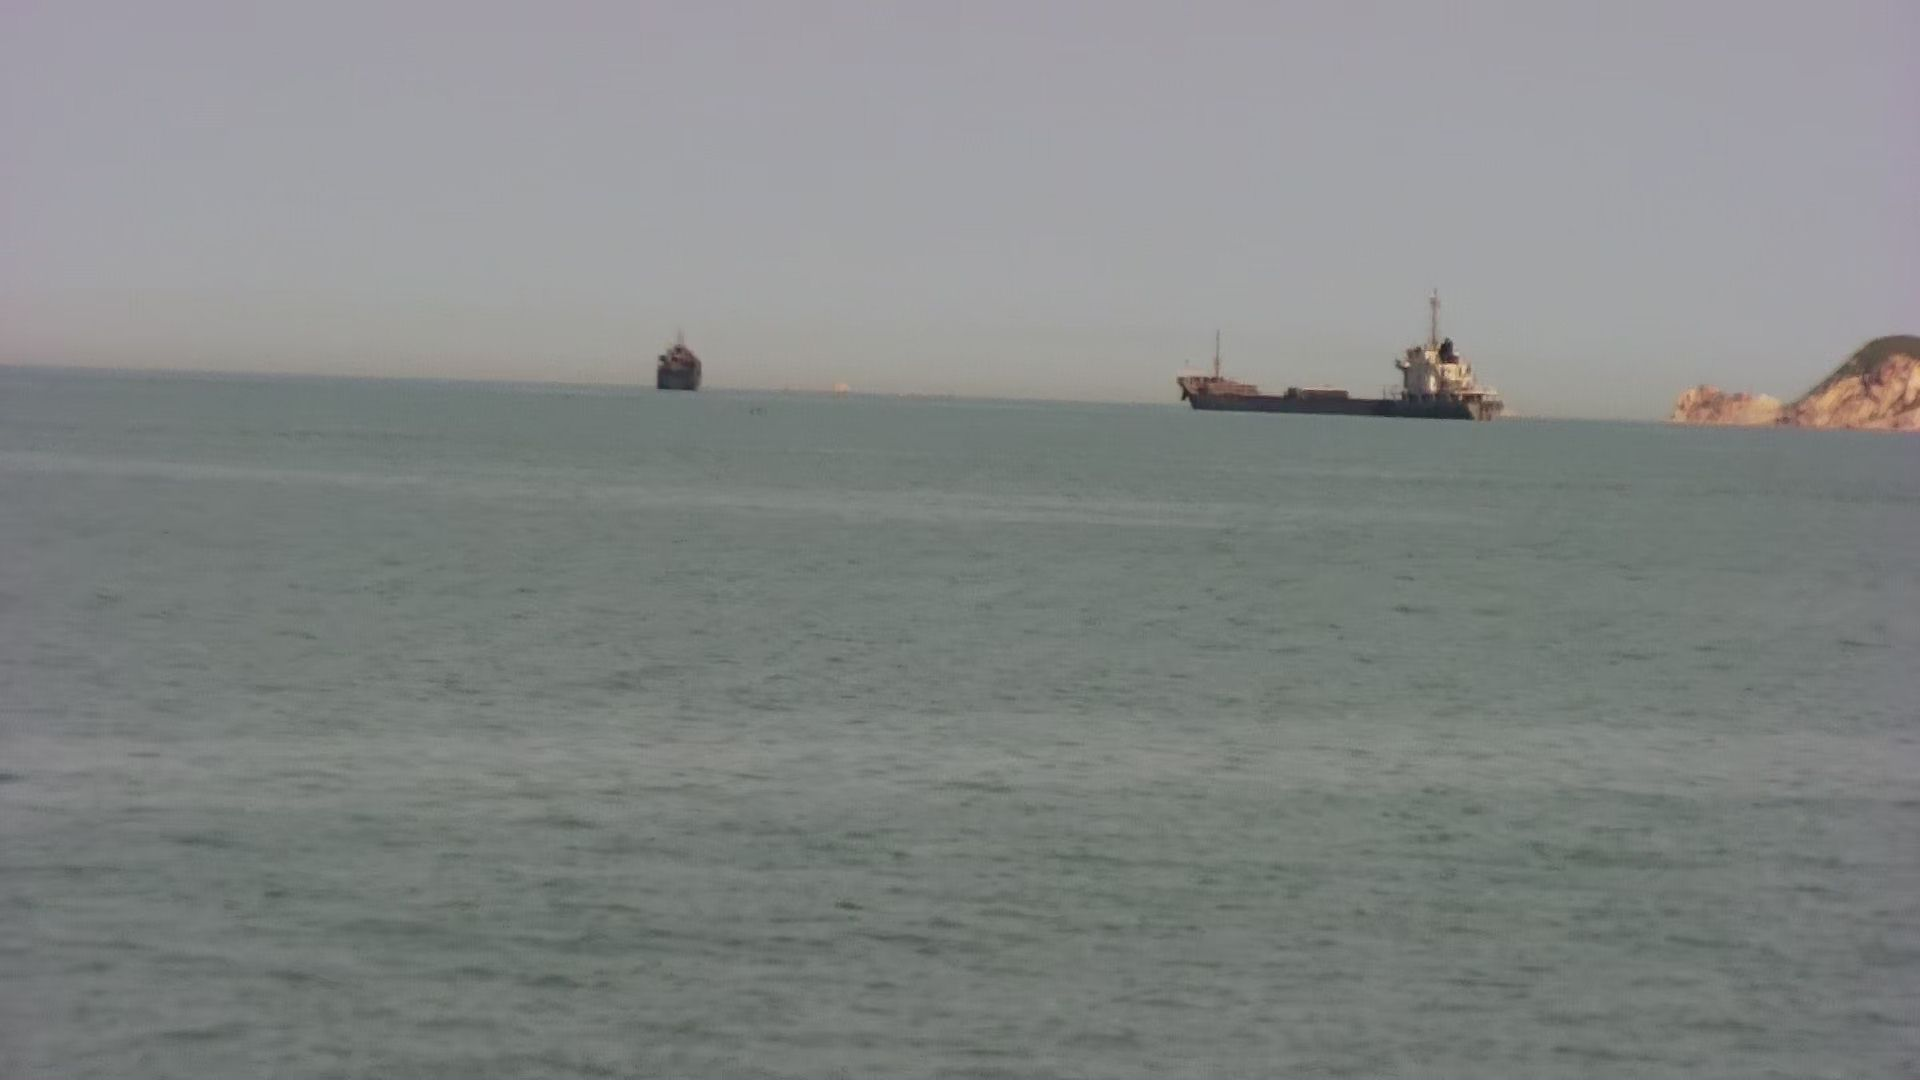rock: (1665, 330, 1920, 434)
ship: (1174, 318, 1520, 425), (651, 330, 704, 397)
